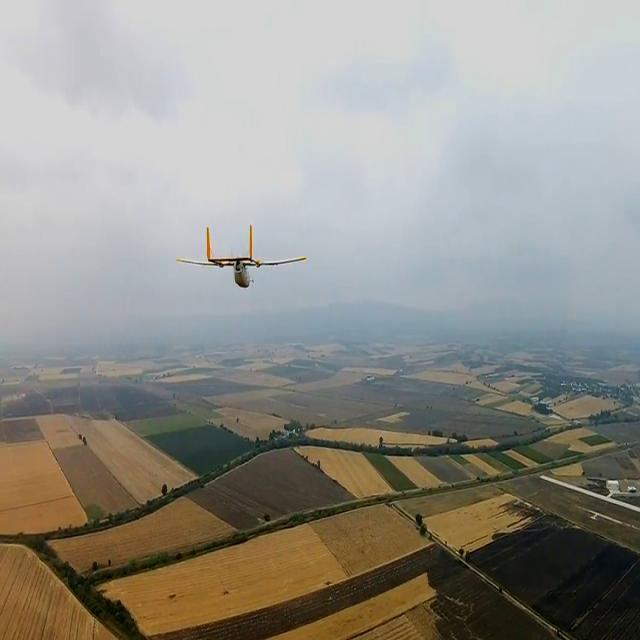iha: (168, 245, 311, 271)
